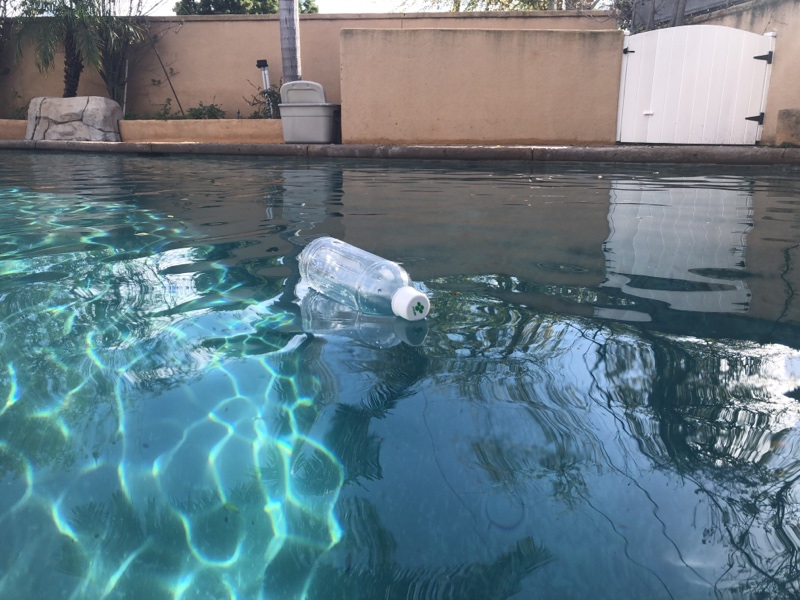Plastic Bottle: (294, 236, 432, 325)
